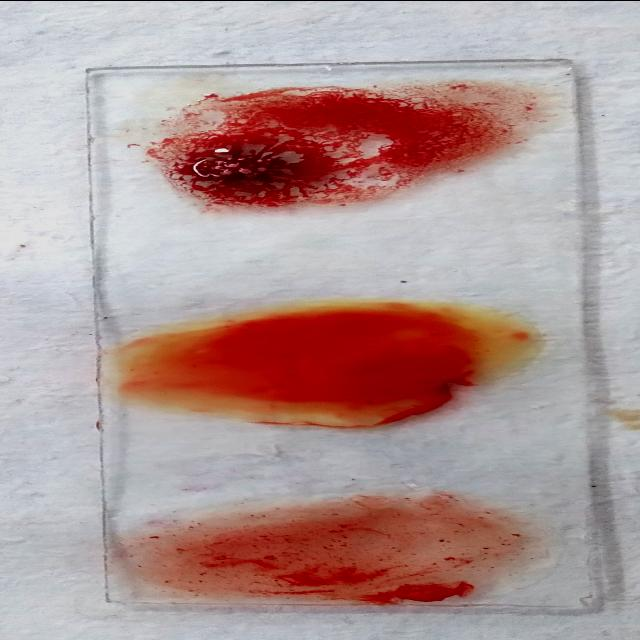A: (144, 87, 526, 205)
D: (140, 498, 536, 602)
